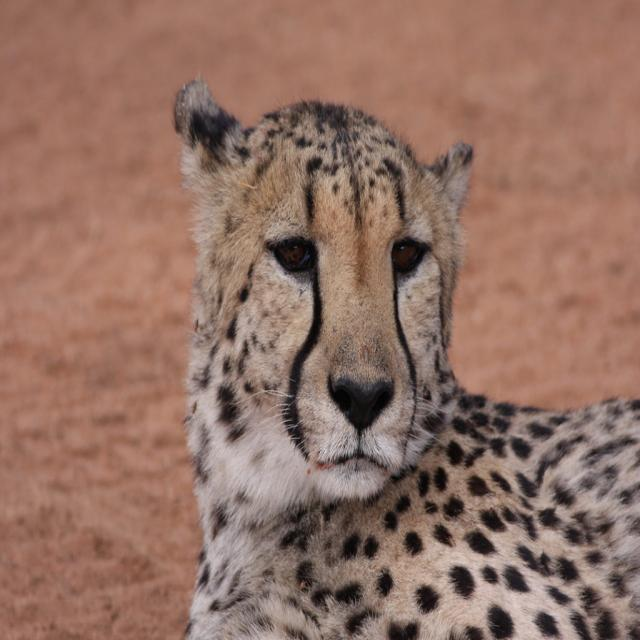Cheetah: (172, 74, 640, 639)
